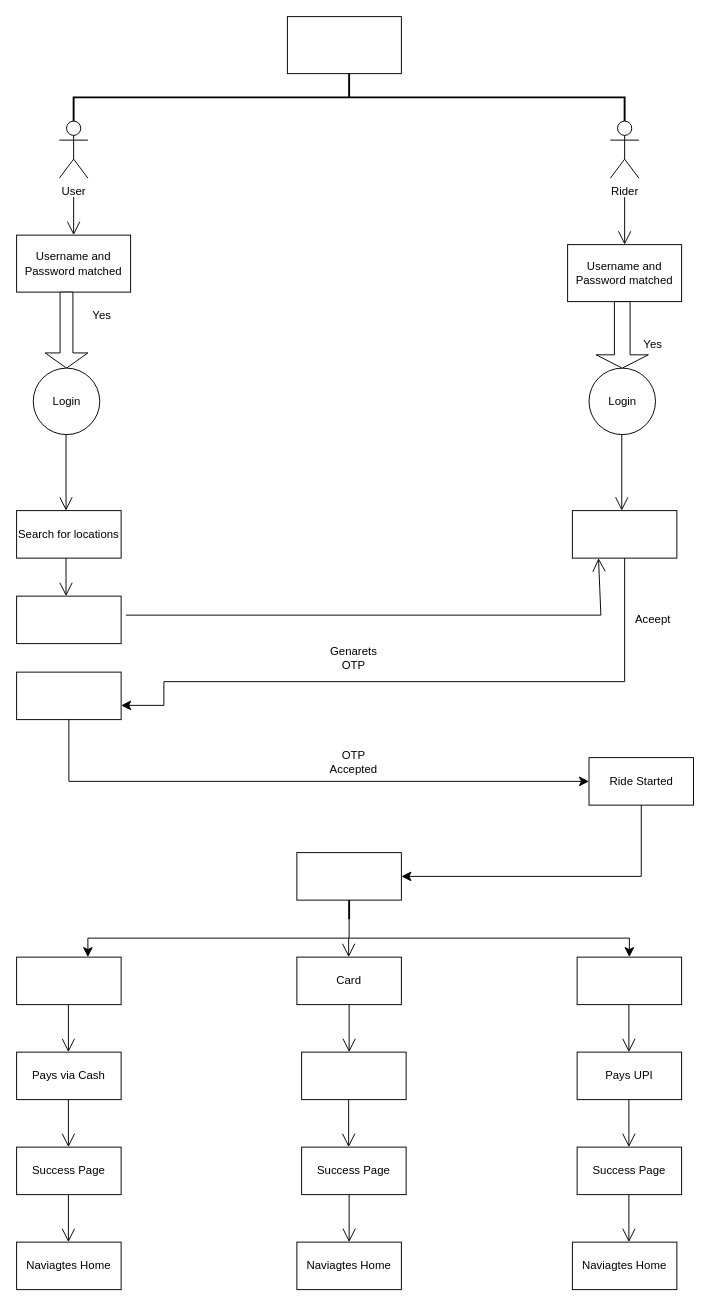
Image size: 711x1306. Some labels were removed from this diagram. The box of each missing label's shape, as (x1, y1, x2, y2) in pixels:
Book a Ride: (16, 595, 121, 644)
Cash: (16, 956, 121, 1005)
Get a ride request: (571, 510, 677, 558)
OTP: (16, 671, 121, 720)
Payment via card(Using Stripe): (301, 1051, 406, 1100)
Ride Completed: (296, 852, 401, 900)
UBER: (286, 16, 401, 74)
UPI: (576, 956, 682, 1005)
